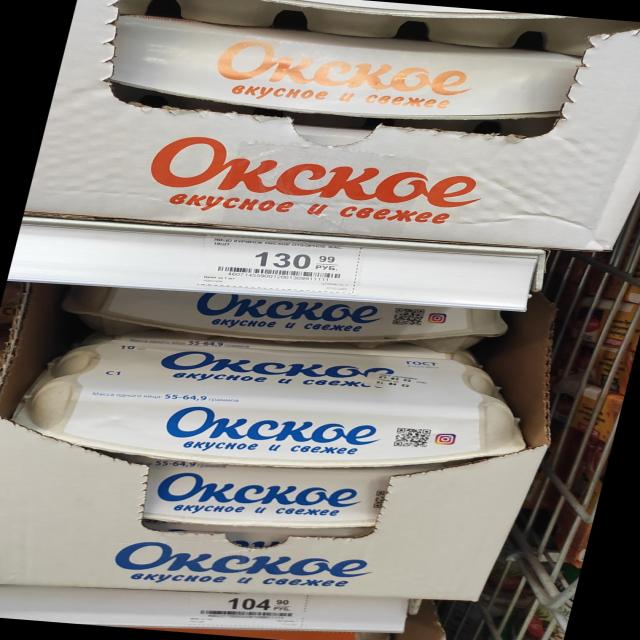organic waste: (10, 331, 548, 480), (56, 276, 508, 362), (138, 458, 395, 551)
